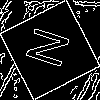N: (25, 25, 79, 73)
